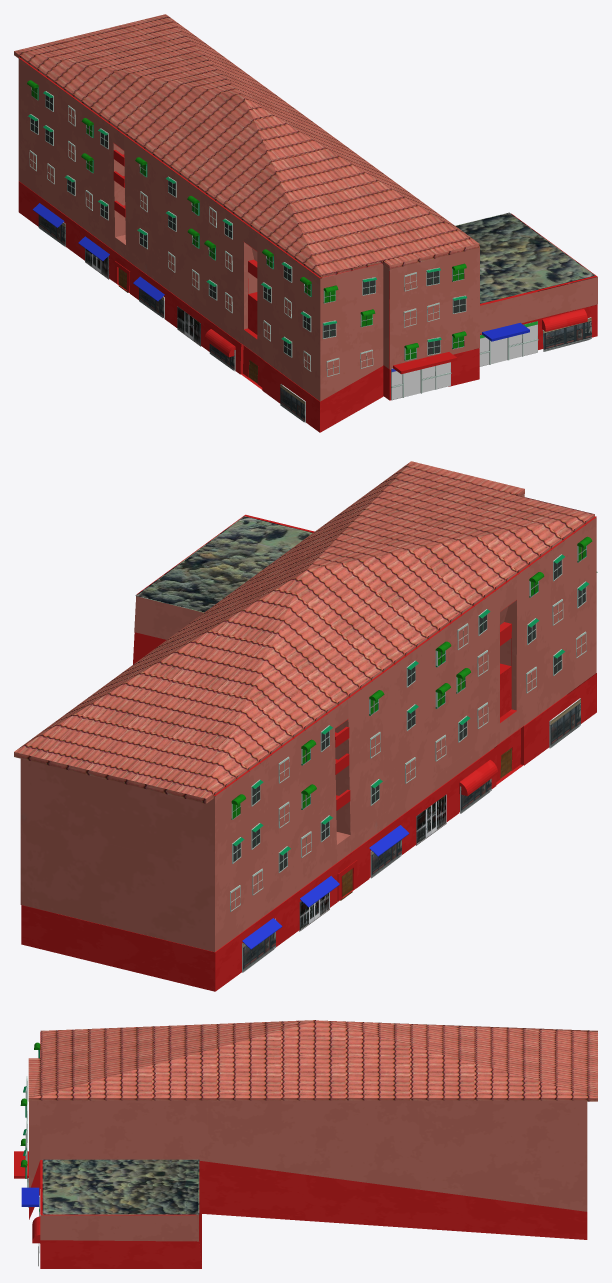
The model's file is stationen4.fbx.
3 renders of one model, top to bottom at view 1: azimuth 30°, elevation 25°; view 2: azimuth 150°, elevation 25°; view 3: azimuth 270°, elevation 25°, orthographic. The views are drawn at different scales.
Visible parts, largest first — view 1: Cube.019, Roof, Cube.017, Plane, Cube.001, Cube.009, Entrance, Cube.011, Cube.029, Cube.027, Cube.010, Cube.007; view 2: Cube.019, Roof, Cube.017, Plane, Cube.001, Cube.007, Cube.010; view 3: Cube.019, Roof, Cube.017, Plane, Cube.001, Cube.025, Cube.029.
Boxes of the visible parts, x1=… form: Cube.019: x1=18, y1=58, x2=597, y2=401; Roof: x1=14, y1=14, x2=479, y2=278; Cube.017: x1=18, y1=181, x2=597, y2=432; Plane: x1=389, y1=212, x2=594, y2=303; Cube.001: x1=19, y1=57, x2=597, y2=422; Cube.009: x1=479, y1=321, x2=538, y2=366; Entrance: x1=391, y1=362, x2=451, y2=400; Cube.011: x1=542, y1=317, x2=591, y2=351; Cube.029: x1=393, y1=352, x2=457, y2=374; Cube.027: x1=542, y1=309, x2=587, y2=331; Cube.010: x1=280, y1=384, x2=305, y2=422; Cube.007: x1=177, y1=306, x2=201, y2=346; Cube.019: x1=20, y1=494, x2=596, y2=951; Roof: x1=14, y1=461, x2=594, y2=803; Cube.017: x1=21, y1=632, x2=596, y2=991; Plane: x1=135, y1=516, x2=312, y2=612; Cube.001: x1=58, y1=514, x2=596, y2=952; Cube.007: x1=416, y1=794, x2=446, y2=845; Cube.010: x1=549, y1=698, x2=580, y2=748; Cube.019: x1=29, y1=1100, x2=587, y2=1241; Roof: x1=28, y1=1020, x2=597, y2=1101; Cube.017: x1=29, y1=1160, x2=587, y2=1268; Plane: x1=42, y1=1159, x2=199, y2=1214; Cube.001: x1=40, y1=1032, x2=199, y2=1244; Cube.025: x1=21, y1=1187, x2=39, y2=1206; Cube.029: x1=14, y1=1151, x2=28, y2=1178.
Bounding box in the file's own units: 34.03 × 23.52 × 66.55.
